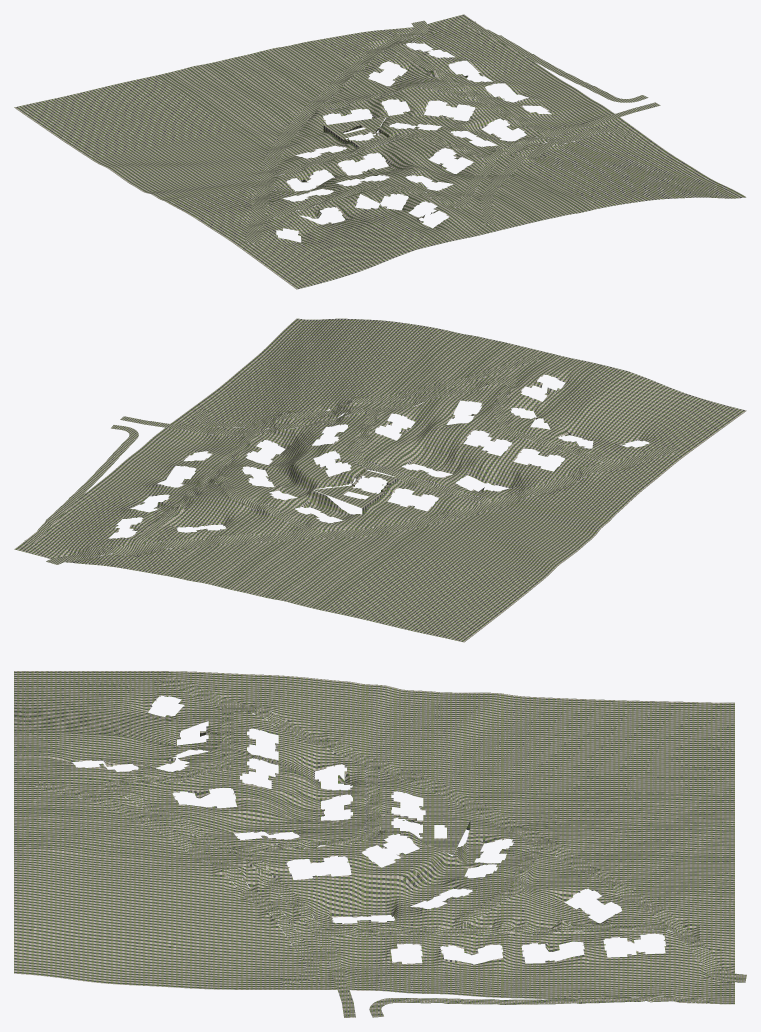
The model's file is context-ground.glb.
3 renders of one model, top to bottom at view 1: azimuth 30°, elevation 25°; view 2: azimuth 150°, elevation 25°; view 3: azimuth 270°, elevation 25°, orthographic. The views are drawn at different scales.
Visible parts, largest first — view 1: context-ground-other-0; view 2: context-ground-other-0; view 3: context-ground-other-0.
Part boxes in pixels (x1,y1,x2,y2): context-ground-other-0: [14, 14, 746, 289]; context-ground-other-0: [14, 318, 746, 642]; context-ground-other-0: [14, 671, 746, 1017].
Bounding box in the file's own units: 312 × 32.82 × 315.
1 material, 1 textured.
